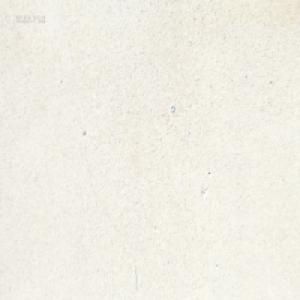Washer: (170, 104, 174, 113)
